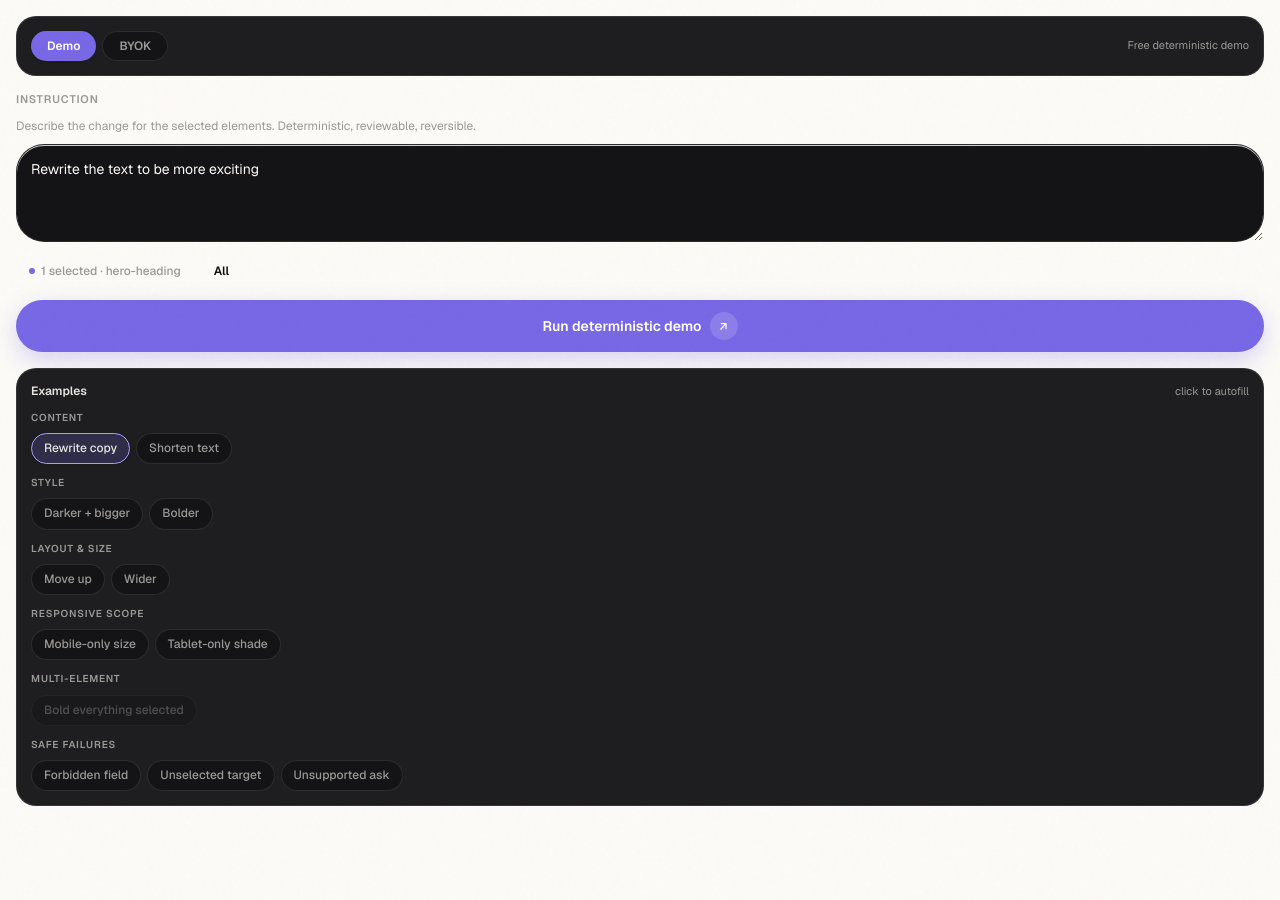
Test case: AiPanel › shows an explicit error card for unsupported instructions
The image size is (1280, 900).
Replace the text in the text box named "AI instruction" with "Tell me a joke about pixels": [640, 193] box [16, 144, 1264, 242]
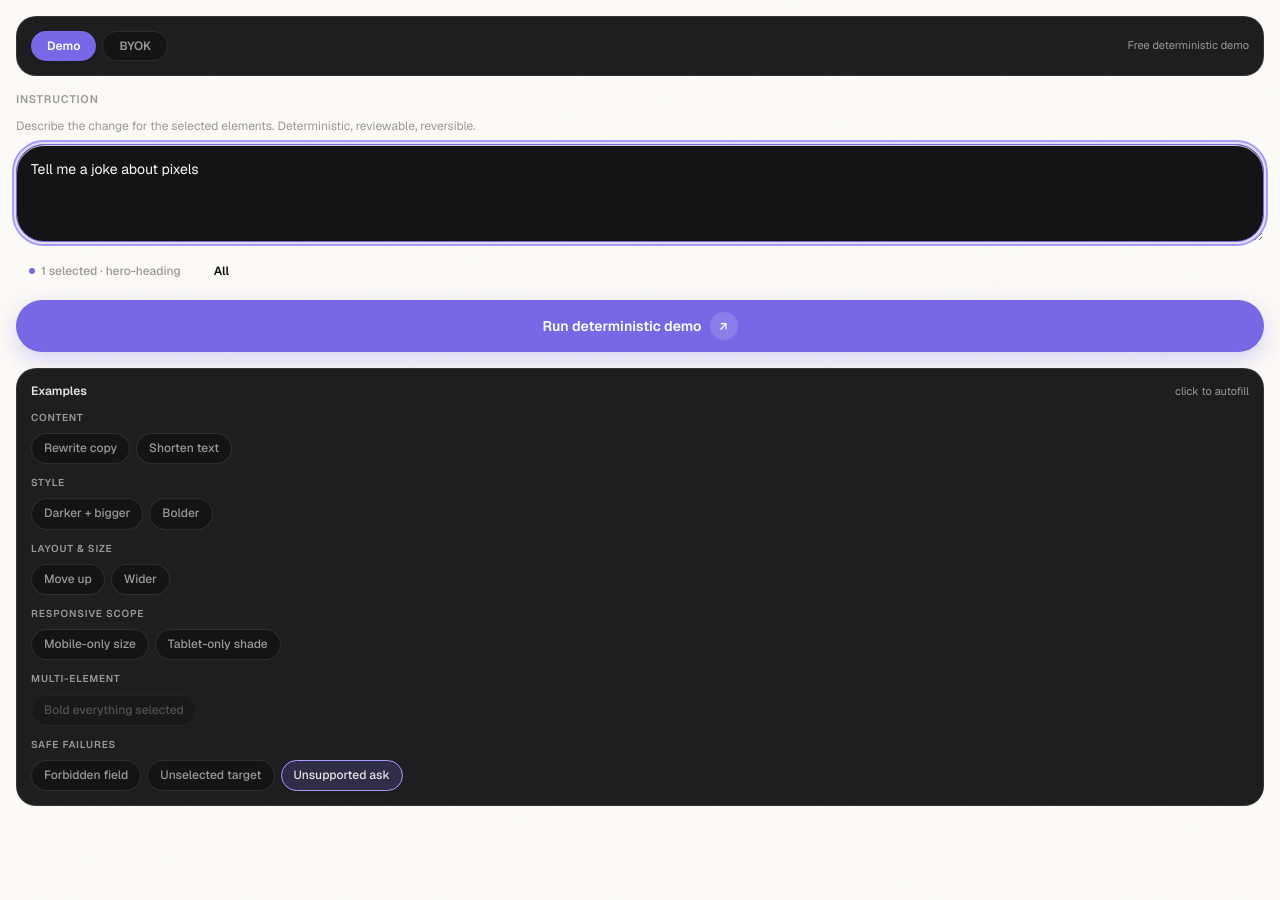
Click the button "Run deterministic demo ↗": [640, 326] box [16, 300, 1264, 352]
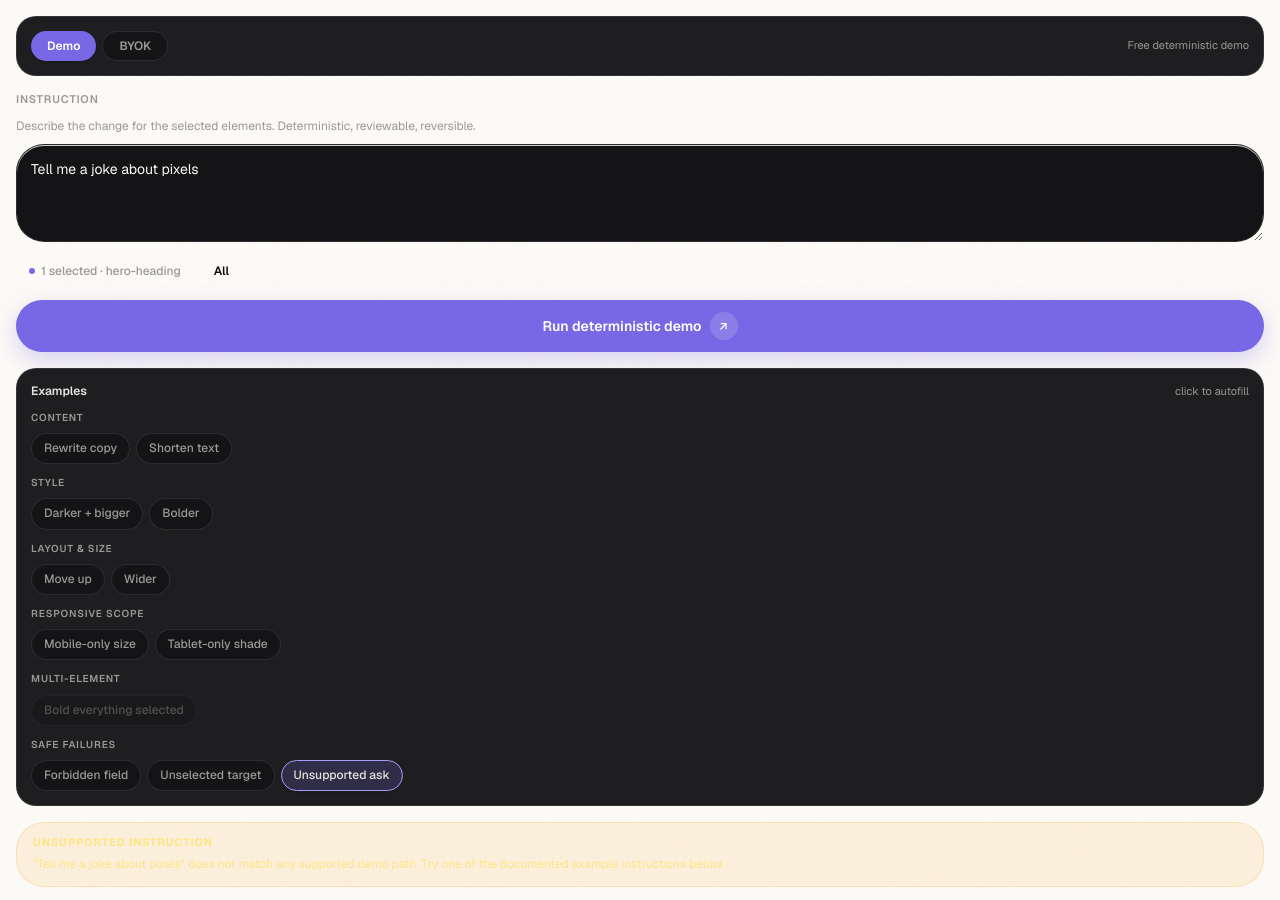
Expected: the message shows "Unsupported instruction", [33, 835, 213, 849]
